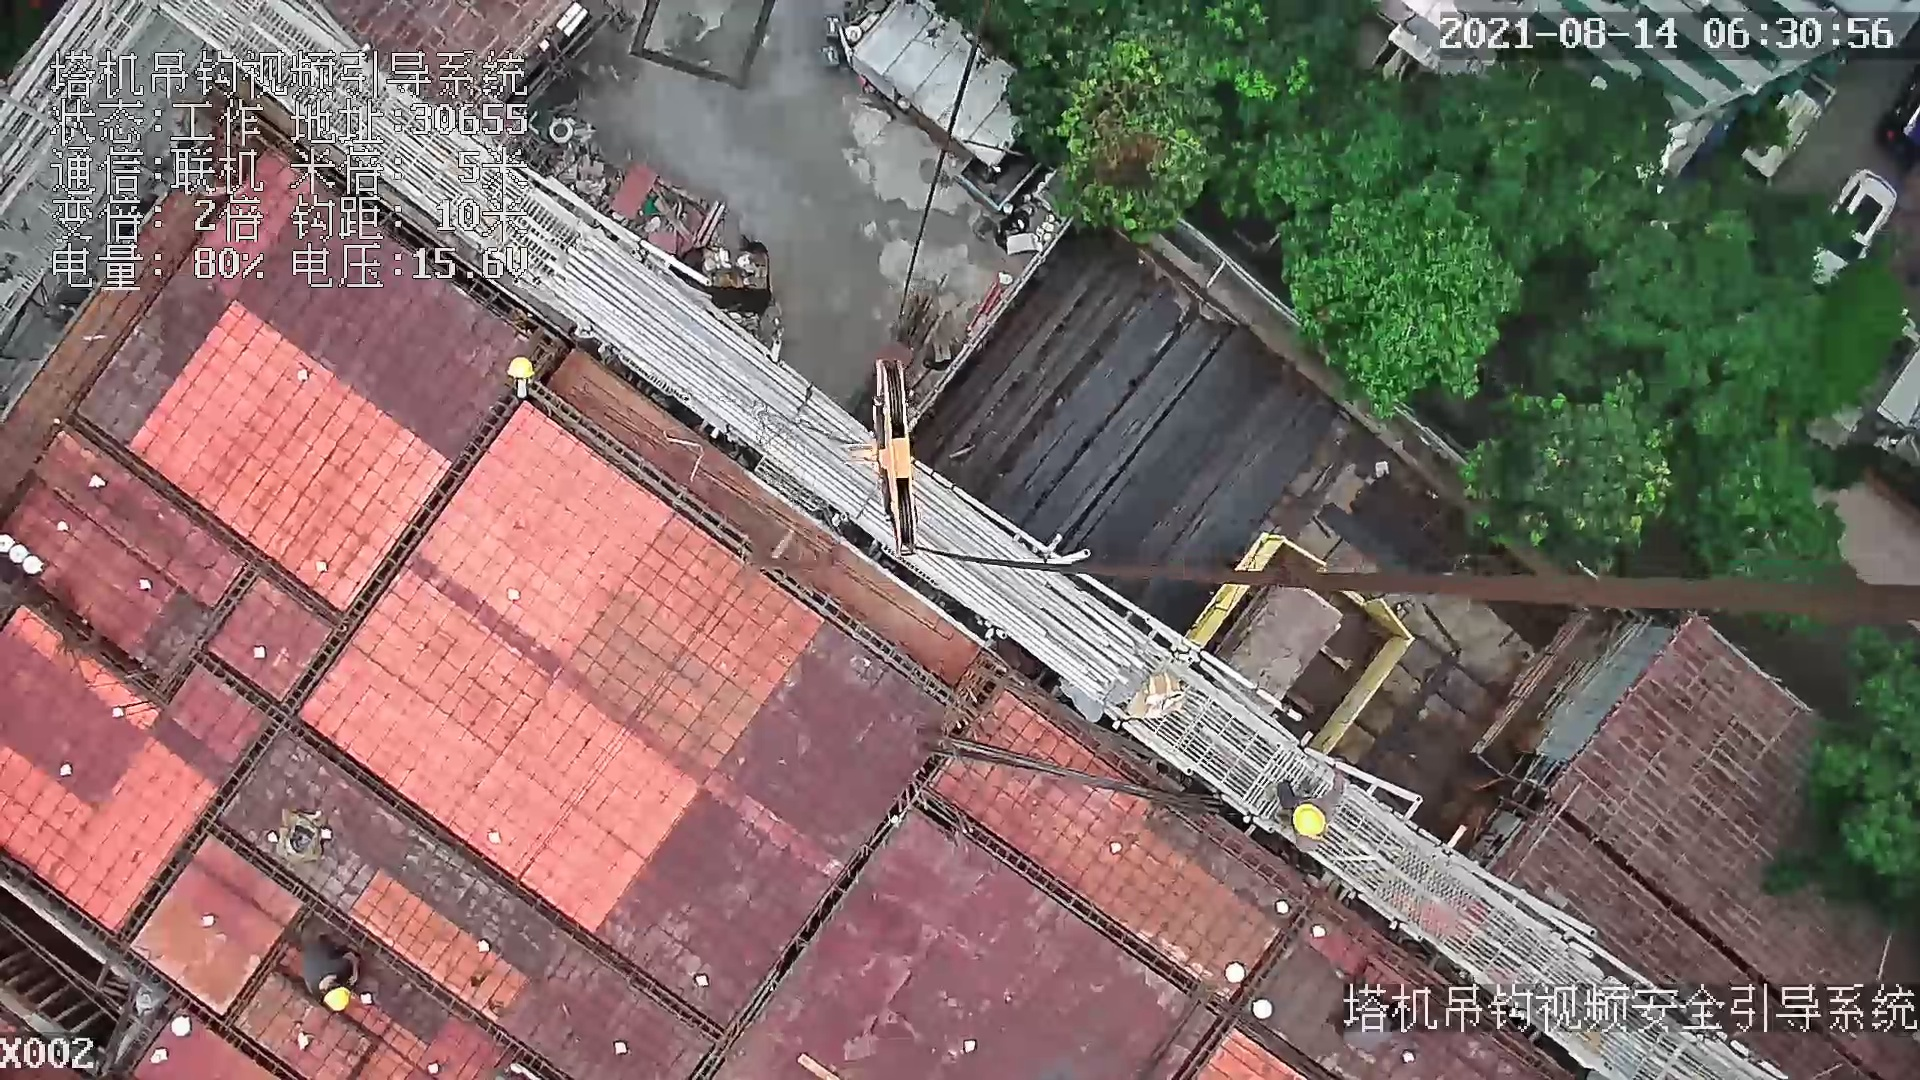helmet: (1289, 802, 1328, 839), (321, 987, 353, 1012), (505, 356, 537, 381)
hook: (860, 353, 920, 554)
person: (1277, 760, 1354, 859), (296, 931, 362, 1014)
rebar: (931, 223, 1345, 633)
